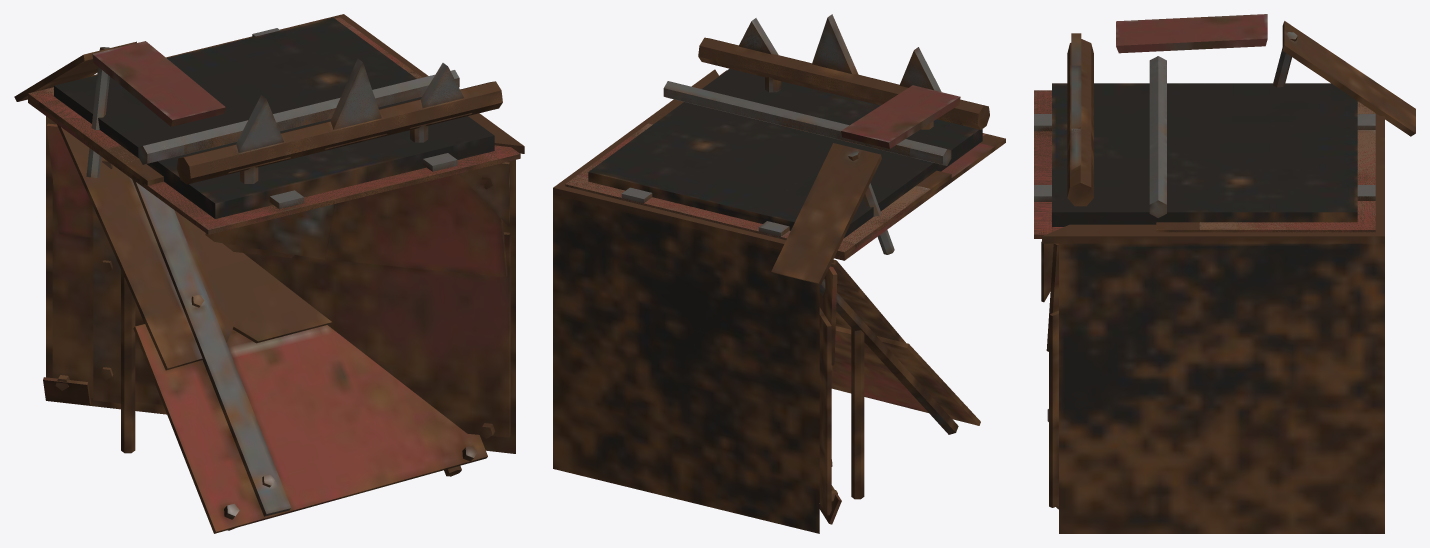
The model's file is R4H_HullKit.fbx.
The picture shows the model from 3 angles, left to right: view 1: azimuth 30°, elevation 25°; view 2: azimuth 150°, elevation 25°; view 3: azimuth 270°, elevation 25°; orthographic projection. The views are drawn at different scales.
Visible parts, largest first — view 1: ramp, cheek, gasket, nose_0, nose_3, lip, nose_1, plate_08_0, nose_2, plate_08_2, plate_02_0, plate_10_0 (+2 smaller); view 2: cheek, gasket, lip, ramp, nose_3, nose_0, nose_2, nose_1, plate_05_2, plate_04_1, plate_02_2, plate_05_1 (+4 smaller); view 3: cheek, gasket, lip, nose_3, plate_05_1, plate_05_2, plate_08_1, nose_0, plate_04_2, nose_1, nose_2, plate_01_0 (+5 smaller).
Part boxes in pixels (x1,y1,x2,y2): ramp: [57, 124, 487, 533]; cheek: [43, 14, 524, 453]; gasket: [54, 17, 494, 218]; nose_0: [181, 62, 482, 183]; nose_3: [147, 58, 502, 183]; lip: [14, 41, 225, 177]; nose_1: [180, 78, 502, 178]; plate_08_0: [221, 153, 498, 229]; nose_2: [138, 100, 481, 184]; plate_08_2: [228, 154, 490, 226]; plate_02_0: [39, 98, 205, 217]; plate_10_0: [42, 99, 492, 234]; cheek: [553, 69, 841, 533]; gasket: [588, 68, 982, 238]; lip: [771, 85, 960, 284]; ramp: [819, 259, 980, 499]; nose_3: [664, 14, 987, 165]; nose_0: [681, 18, 969, 156]; nose_2: [683, 51, 989, 165]; nose_1: [663, 45, 964, 156]; plate_05_2: [565, 175, 788, 239]; plate_04_1: [591, 184, 790, 238]; plate_02_2: [842, 167, 963, 244]; plate_05_1: [565, 177, 788, 239]; cheek: [1041, 113, 1384, 533]; gasket: [1052, 83, 1357, 226]; lip: [1116, 14, 1415, 136]; nose_3: [1067, 33, 1166, 204]; plate_05_1: [1237, 114, 1375, 229]; plate_05_2: [1200, 102, 1375, 229]; plate_08_1: [1034, 102, 1051, 221]; nose_0: [1067, 49, 1093, 185]; plate_04_2: [1357, 102, 1375, 215]; nose_1: [1067, 51, 1166, 217]; nose_2: [1067, 39, 1166, 186]; plate_01_0: [1156, 222, 1341, 232].
Bounding box in the file's own units: 56.5 × 73.61 × 61.49.
